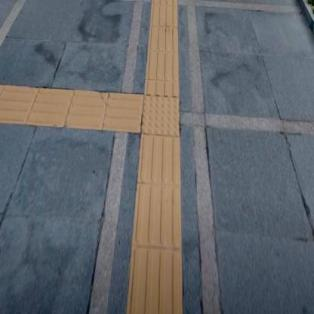Podoctatil: (128, 138, 184, 313), (120, 67, 198, 178), (0, 82, 140, 134), (145, 0, 180, 94)
